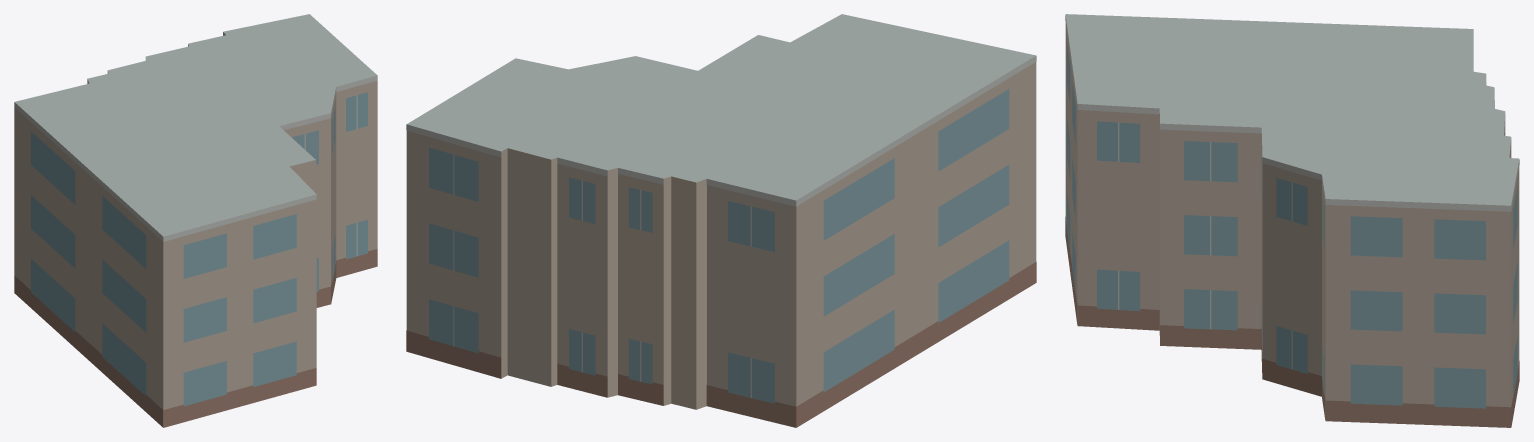
File: survey-upis-32656246.glb
3 views of the same model, side by side, from view 1: azimuth 30°, elevation 25°; view 2: azimuth 150°, elevation 25°; view 3: azimuth 270°, elevation 25° (orthographic). The views are drawn at different scales.
Visible parts, largest first — view 1: survey-upis-32656246.tmp; view 2: survey-upis-32656246.tmp; view 3: survey-upis-32656246.tmp.
Part boxes in pixels (<box>): survey-upis-32656246.tmp: <box>14,14,377,427</box>; survey-upis-32656246.tmp: <box>406,14,1036,427</box>; survey-upis-32656246.tmp: <box>1065,14,1519,427</box>.
Bounding box in the file's own units: 16.85 × 9.1 × 16.86.
